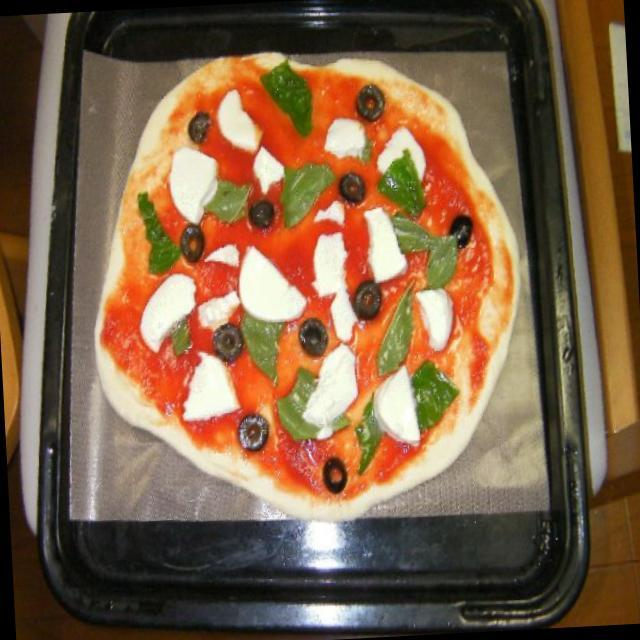Pizza: (74, 31, 540, 531)
